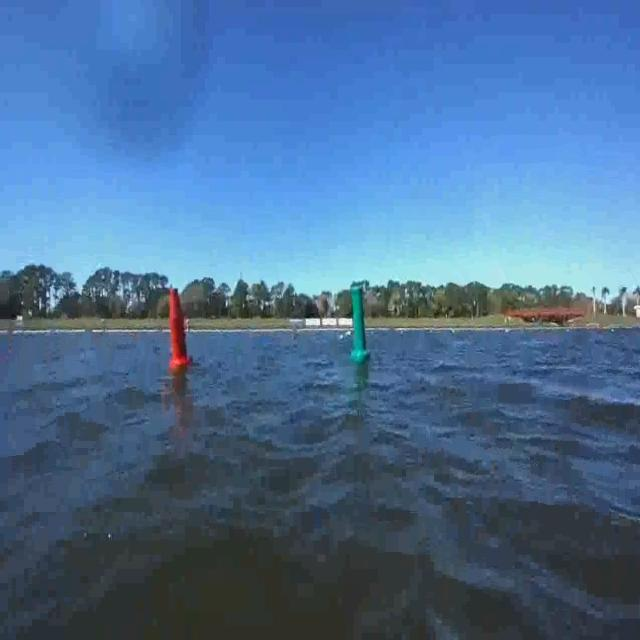green-column-buoy: (350, 287, 371, 363)
red-column-buoy: (167, 287, 192, 369)
